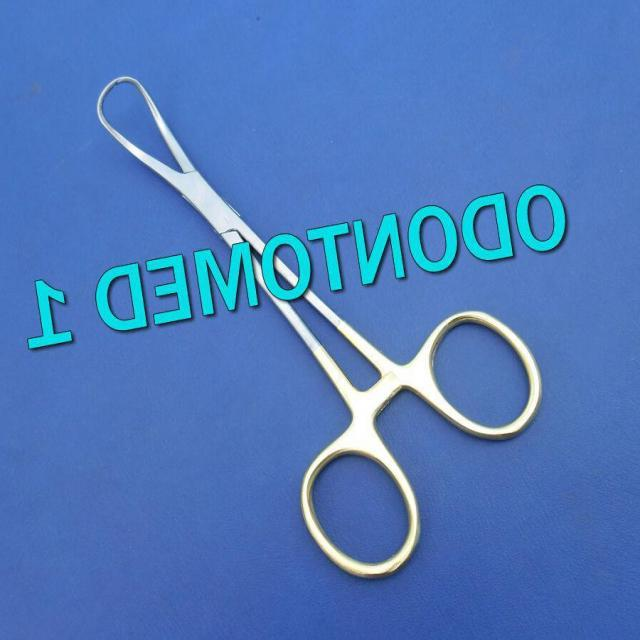Towel_clip: (93, 66, 547, 584)
